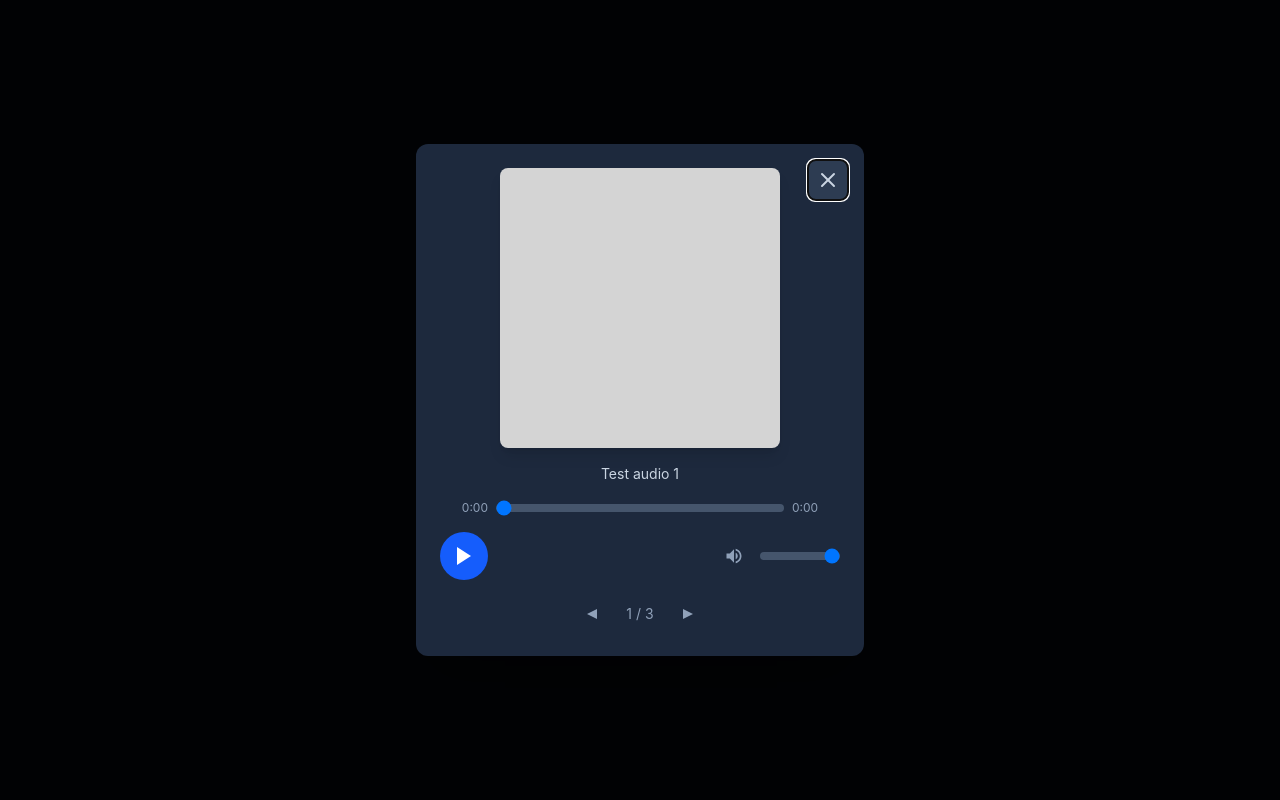
AudioPlayer › volume controls › should toggle mute when mute button is clicked
Click the button named "ミュート" at (734, 556), box [716,538,752,574]
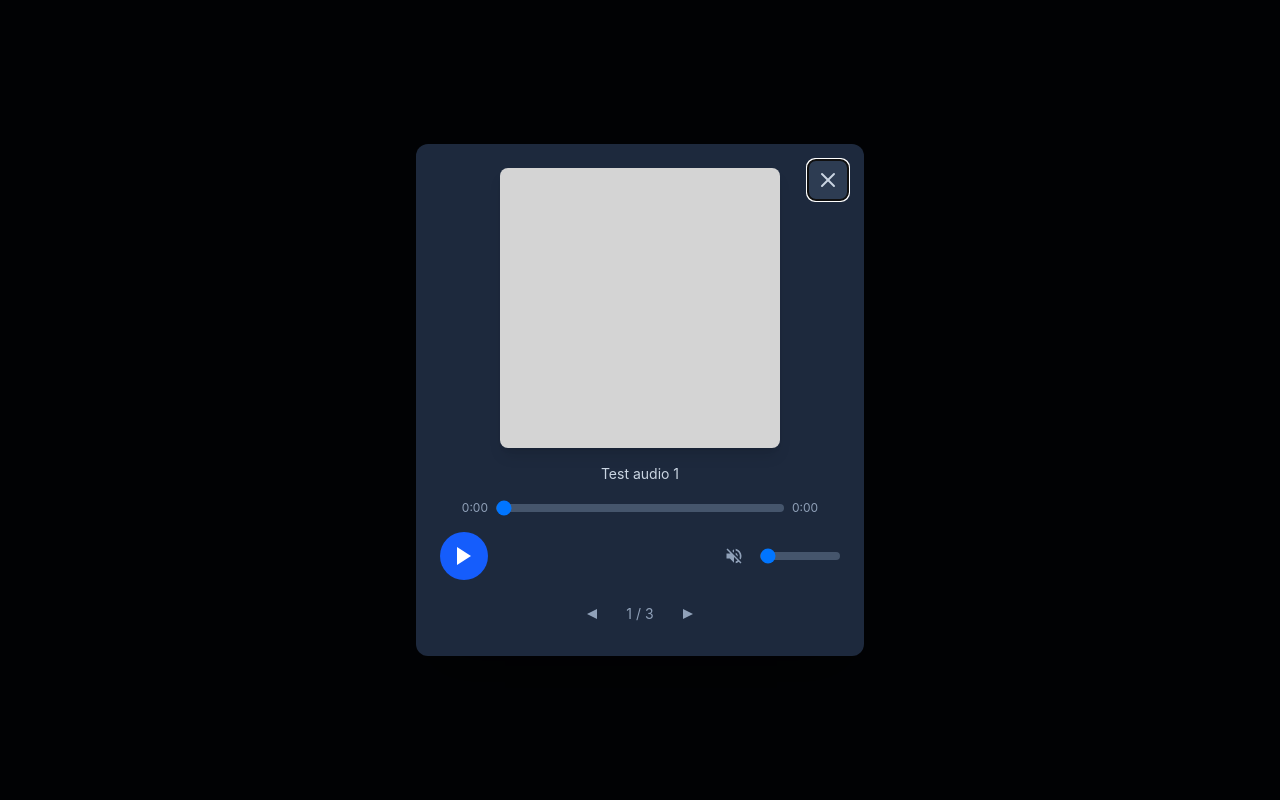
Now the button named "ミュート解除" is shown, box [716,538,752,574]
